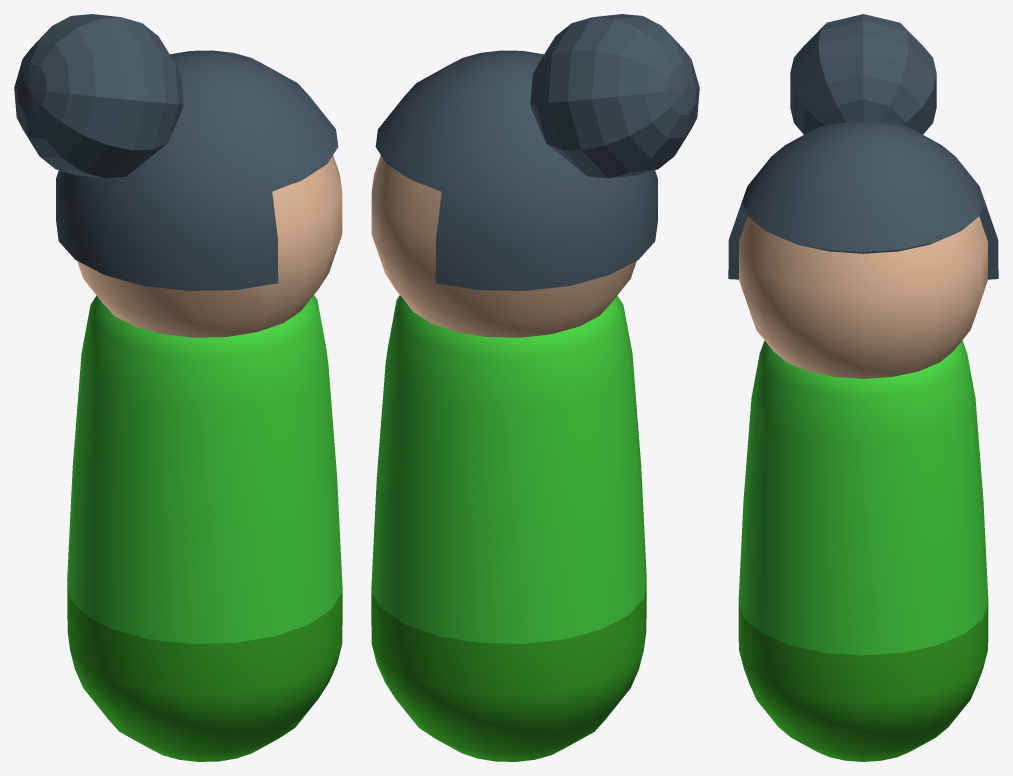
File: yesil1.fbx
The picture shows the model from 3 angles, left to right: view 1: azimuth 30°, elevation 25°; view 2: azimuth 150°, elevation 25°; view 3: azimuth 270°, elevation 25°; orthographic projection. The views are drawn at different scales.
Parts seen in each view (by area): view 1: yesil1; view 2: yesil1; view 3: yesil1.
Part boxes in pixels (x1,y1,x2,y2): yesil1: (14,14,342,761); yesil1: (371,14,699,761); yesil1: (728,14,998,761).
Size of the model in its own units: 2.33 by 5.62 by 2.01.
